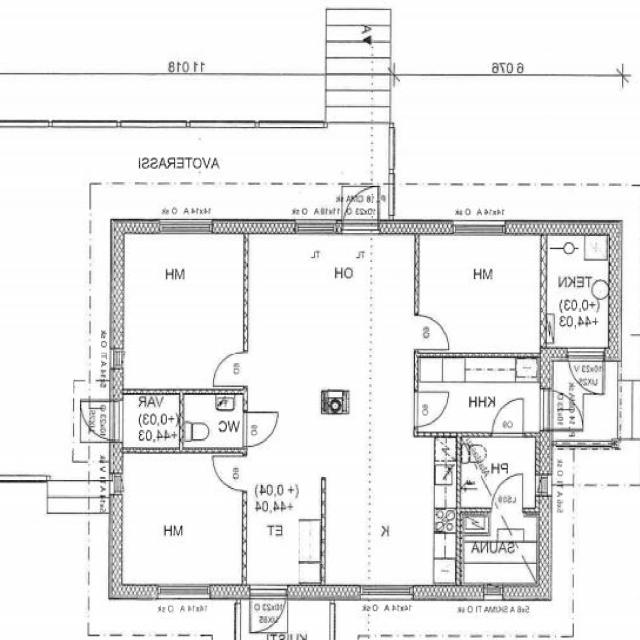door: (251, 585, 287, 640), (73, 402, 122, 442), (342, 182, 378, 236), (568, 348, 604, 402), (540, 391, 588, 431), (492, 397, 523, 439), (414, 316, 452, 350), (242, 412, 278, 447), (212, 457, 248, 491), (414, 393, 450, 427), (211, 353, 248, 386), (492, 475, 522, 515)
